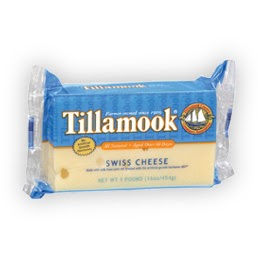cheese: (24, 71, 239, 200)
